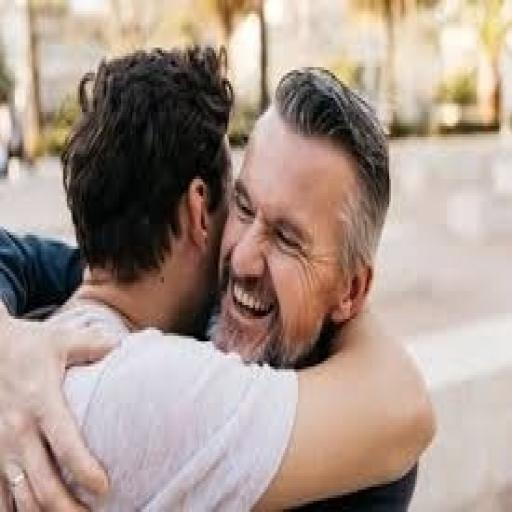hugging: (0, 42, 439, 509)
